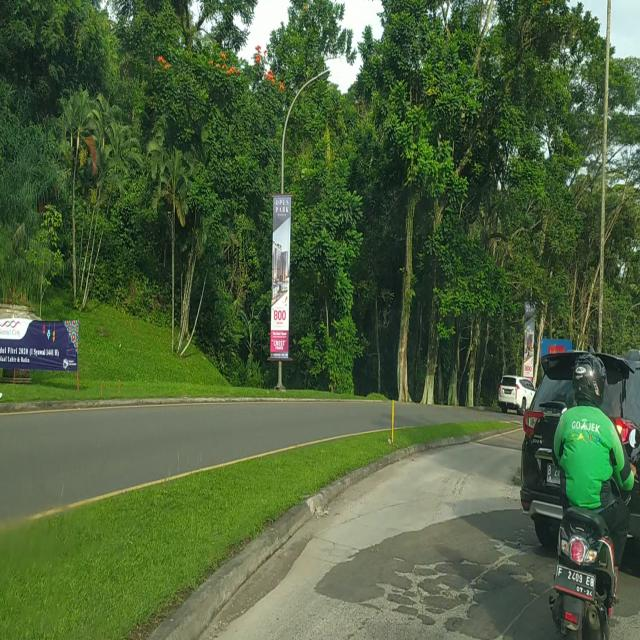Drain Hole: (360, 538, 534, 622)
